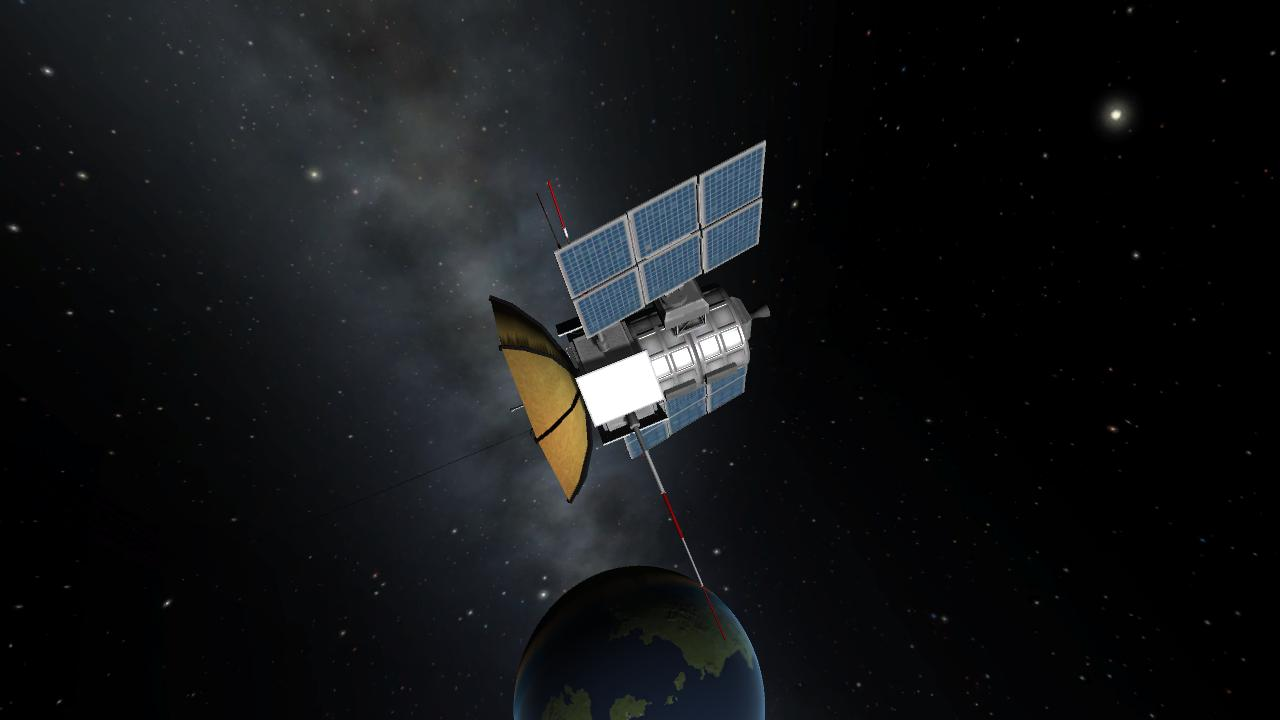antenna: (628, 412, 732, 644), (488, 290, 596, 507), (546, 179, 572, 246), (535, 191, 563, 249)
body: (565, 282, 755, 434)
solar: (552, 138, 768, 341), (620, 358, 750, 461)
thruster: (753, 302, 774, 320)
